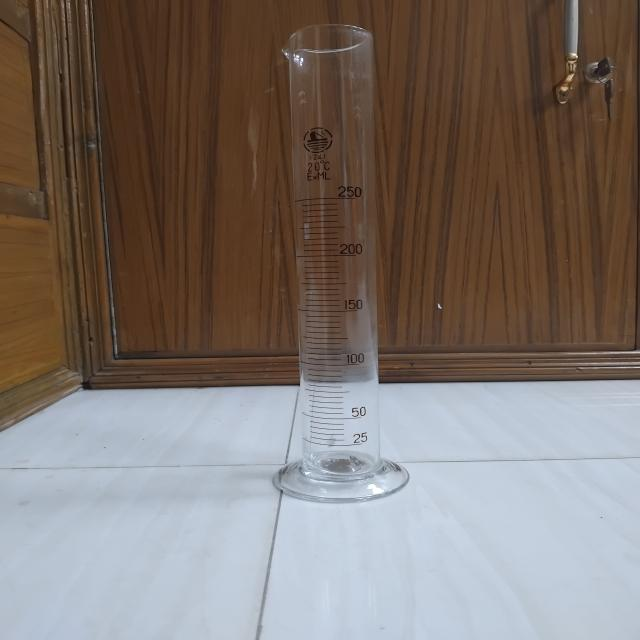Measuring_Cylinder: (242, 0, 437, 521)
